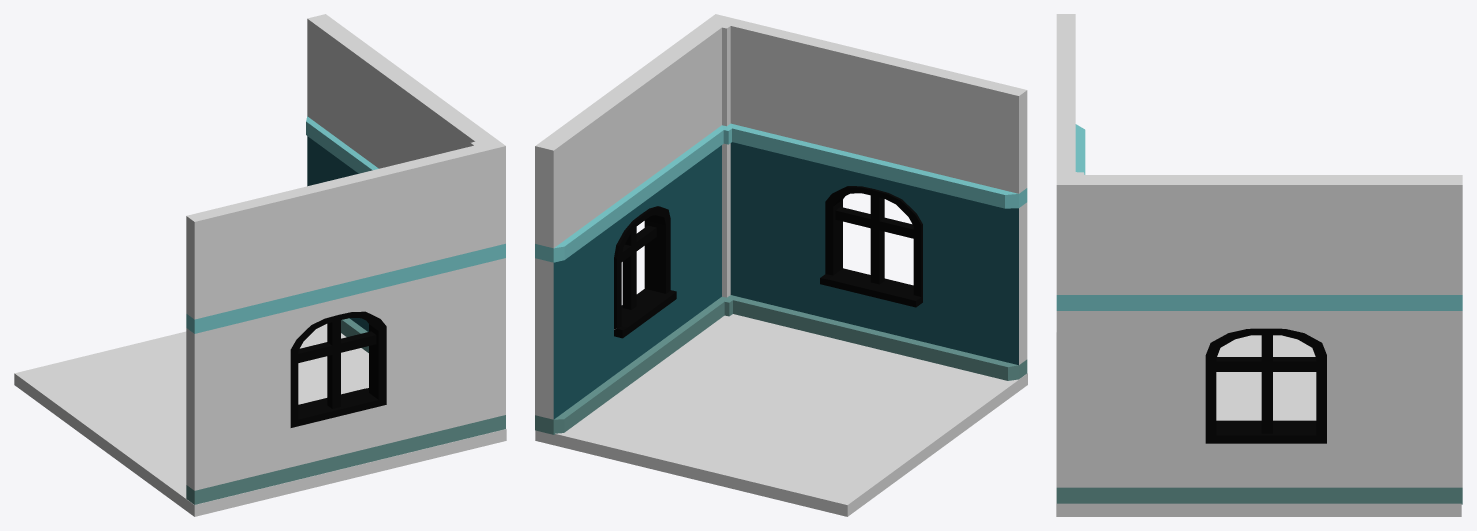
File: restaurant.fbx
The picture shows the model from 3 angles, left to right: view 1: azimuth 30°, elevation 25°; view 2: azimuth 150°, elevation 25°; view 3: azimuth 270°, elevation 25°; orthographic projection. The views are drawn at different scales.
Visible parts, largest first — view 1: Cube, floor, Cube.002; view 2: Cube, floor, Cube.002, Cube.001; view 3: Cube, floor, Cube.001.
Boxes of the visible parts, x1,y1,x2,y2 form: Cube: (186,14,505,504); floor: (14,324,506,516); Cube.002: (298,320,376,408); Cube: (535,14,1027,434); floor: (535,314,1027,516); Cube.002: (835,195,913,284); Cube.001: (621,225,656,309); Cube: (1056,14,1462,504); floor: (1056,332,1461,516); Cube.001: (1216,335,1316,433).
Size of the model in its own units: 200 by 181 by 200.
